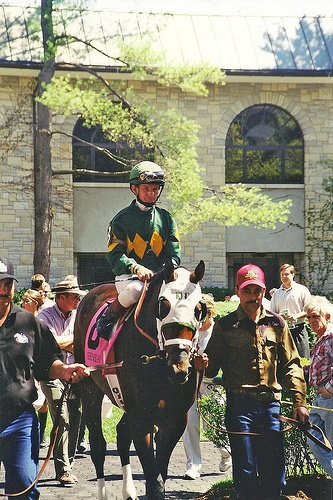head: (125, 155, 168, 211), (304, 294, 333, 342), (235, 266, 266, 310), (52, 276, 83, 317), (1, 257, 17, 311), (276, 262, 295, 293), (19, 288, 40, 313), (30, 272, 47, 294), (222, 292, 229, 300)
person: (198, 263, 309, 495), (1, 259, 84, 499), (104, 158, 181, 329), (304, 295, 332, 500), (268, 262, 310, 359)
